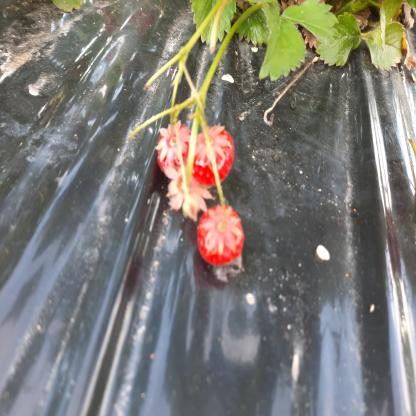ripe: (200, 206, 244, 264), (192, 128, 234, 181), (157, 127, 191, 175)
